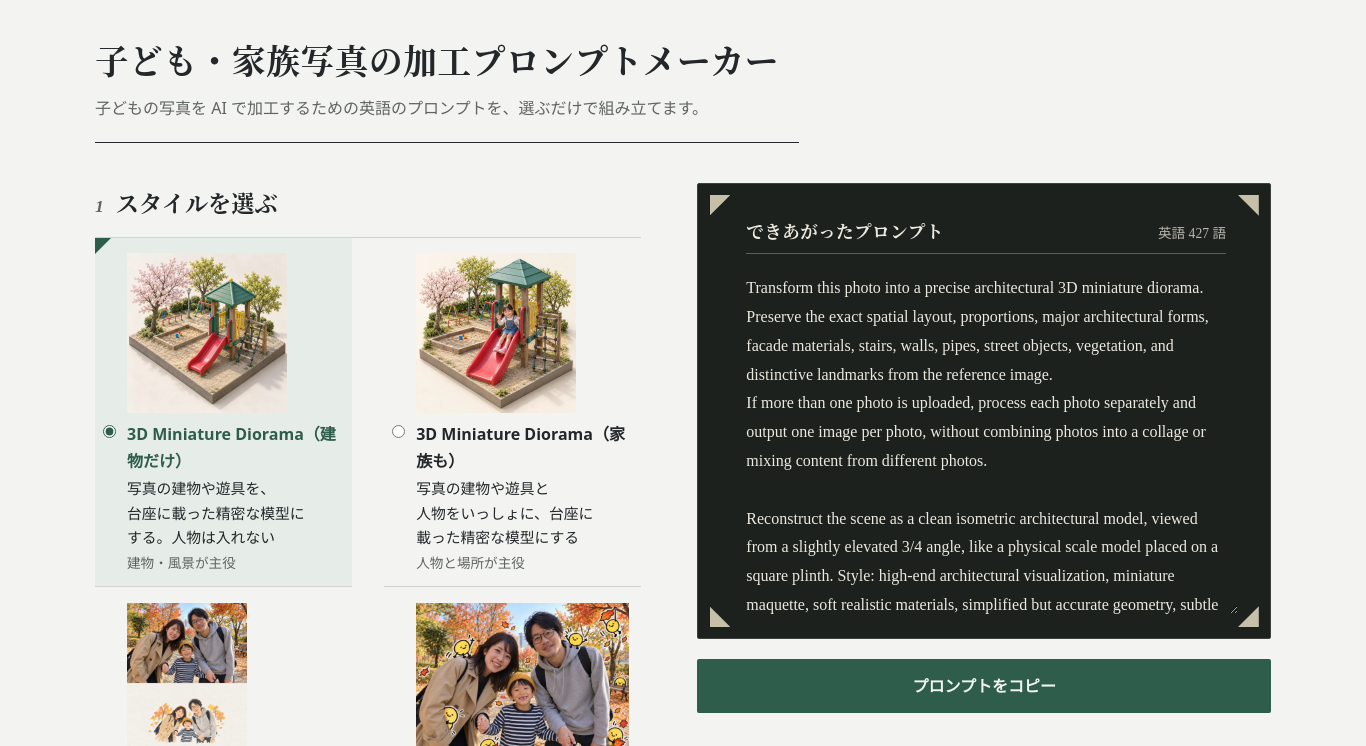
Test case: コピーと開くボタン › コピーした後で条件を変えると「コピーしました」を消す（クリップボードは古いままのため）
Click the button "プロンプトをコピー": (984, 686) x1=697 y1=659 x2=1271 y2=713
(page scrolled)
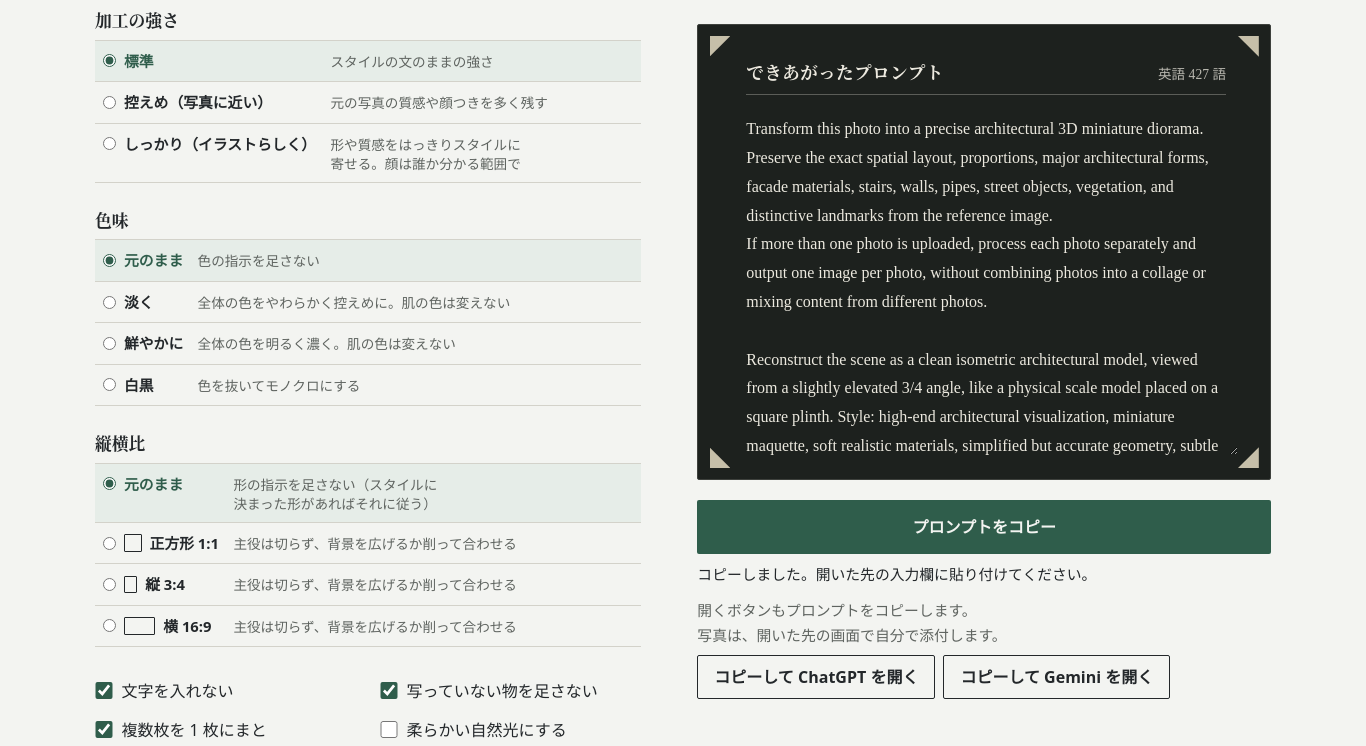
Result: the text "コピーしました。開いた先の入力欄に貼り付けてください。" is shown at x1=697 y1=564 x2=1096 y2=584
Click the radio button labelled "白黒": (110, 385) x1=103 y1=378 x2=116 y2=391
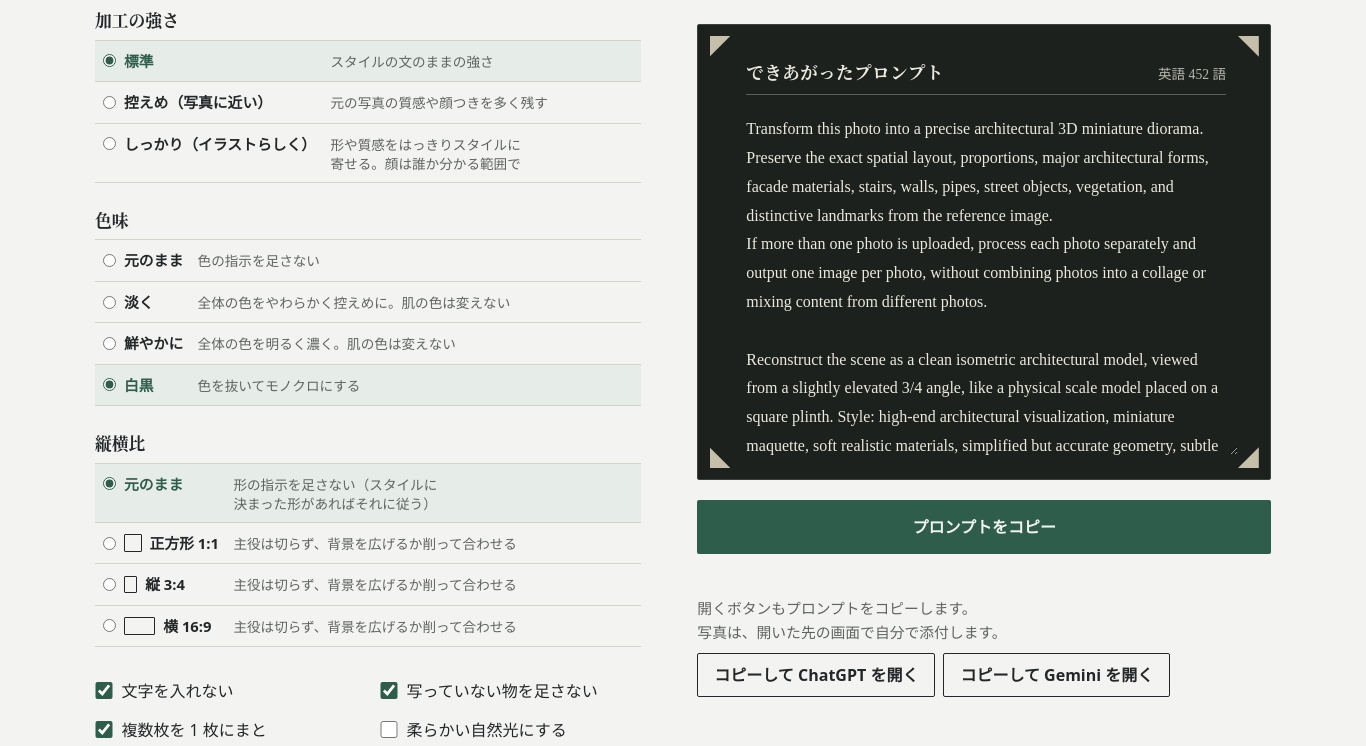
Result: the text "コピーしました" is gone
